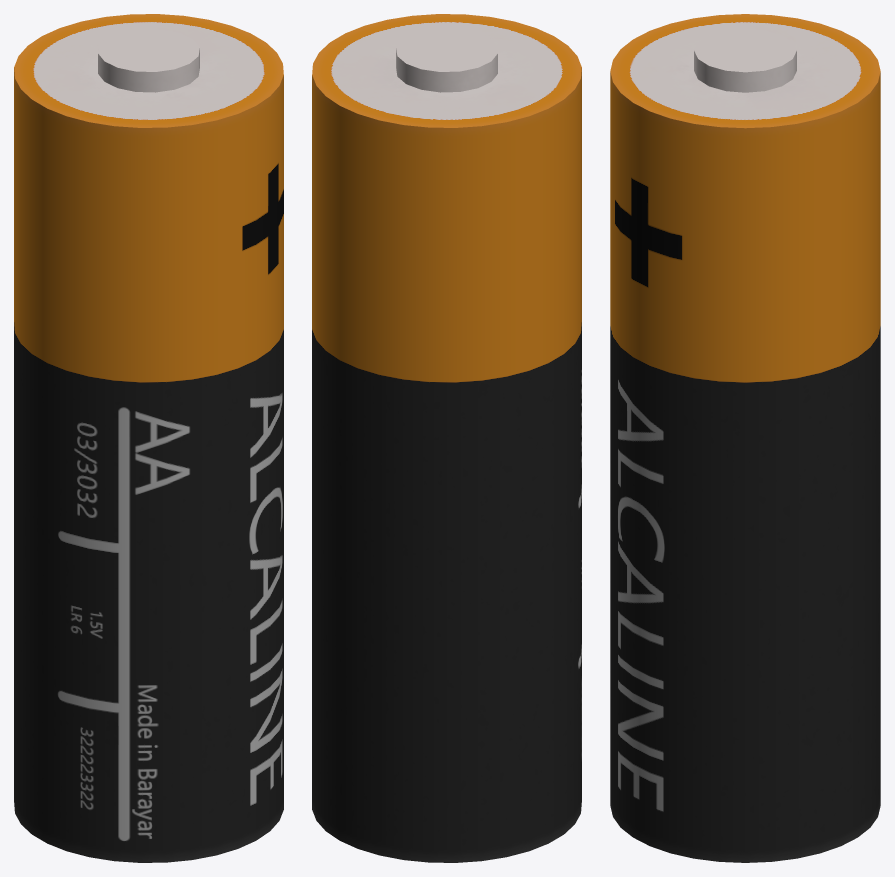
3 renders of one model, left to right at view 1: azimuth 30°, elevation 25°; view 2: azimuth 150°, elevation 25°; view 3: azimuth 270°, elevation 25°, orthographic.
Parts seen in each view (by area): view 1: Battery_low; view 2: Battery_low; view 3: Battery_low.
Part boxes in pixels (x1,y1,x2,y2): Battery_low: (14,14,283,862); Battery_low: (312,14,581,862); Battery_low: (610,14,880,862).
Size of the model in its own units: 0.016 by 0.0493 by 0.016.
1 material, 1 textured.
